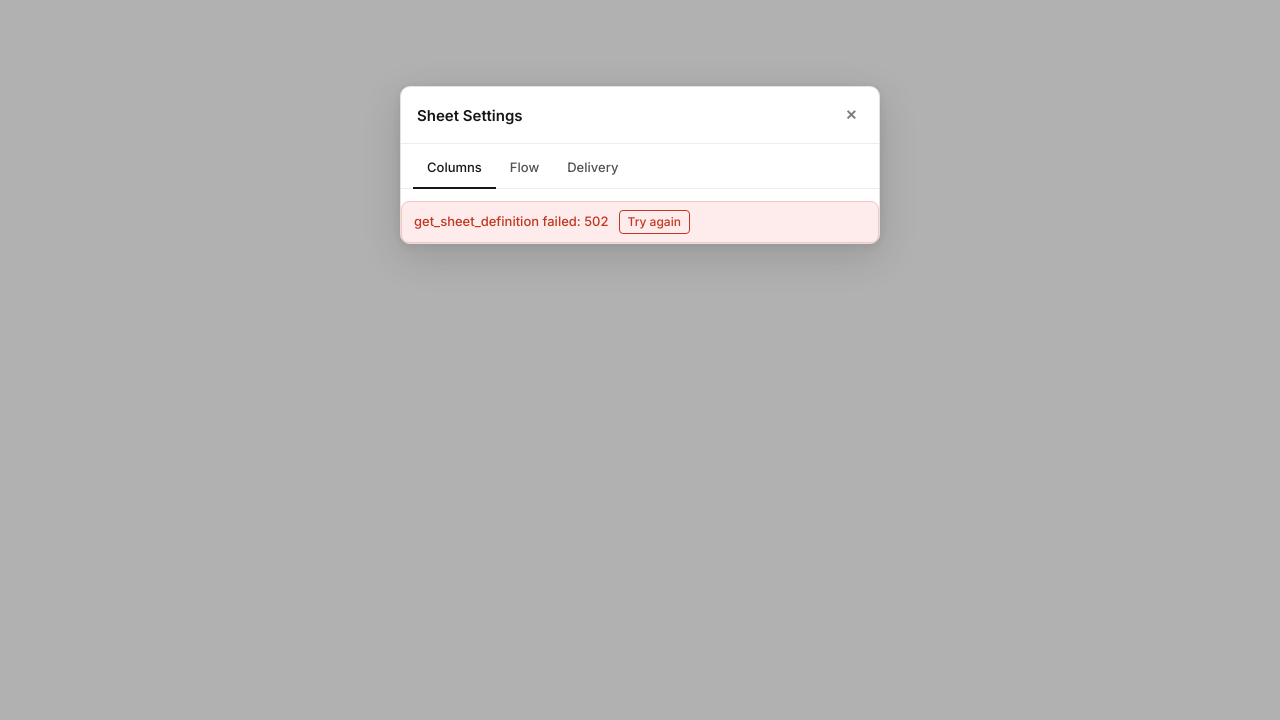
Test: SheetSettings — a failed seed read is recoverable in place › surfaces the failure verbatim and offers a retry that works
Expected: the message with test id "settings-error" shows "502", left=414, top=214, right=608, bottom=230
Expected: the navigation bar with test id "settings-tabs" is shown, left=401, top=144, right=879, bottom=190
Step 1. Click the button with test id "settings-retry" → click(654, 222), box left=618, top=210, right=690, bottom=234
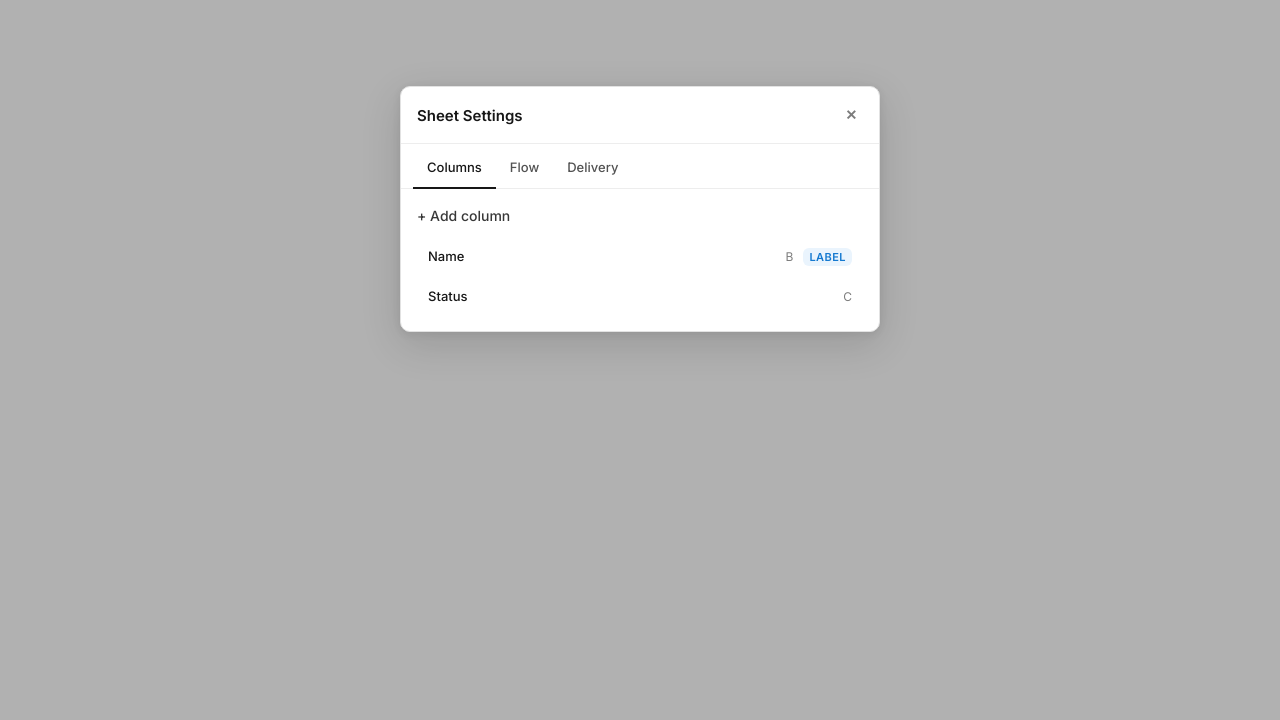
Expected: the element with test id "settings-columns" is shown, left=401, top=190, right=879, bottom=332
Expected: the message with test id "settings-error" is gone
